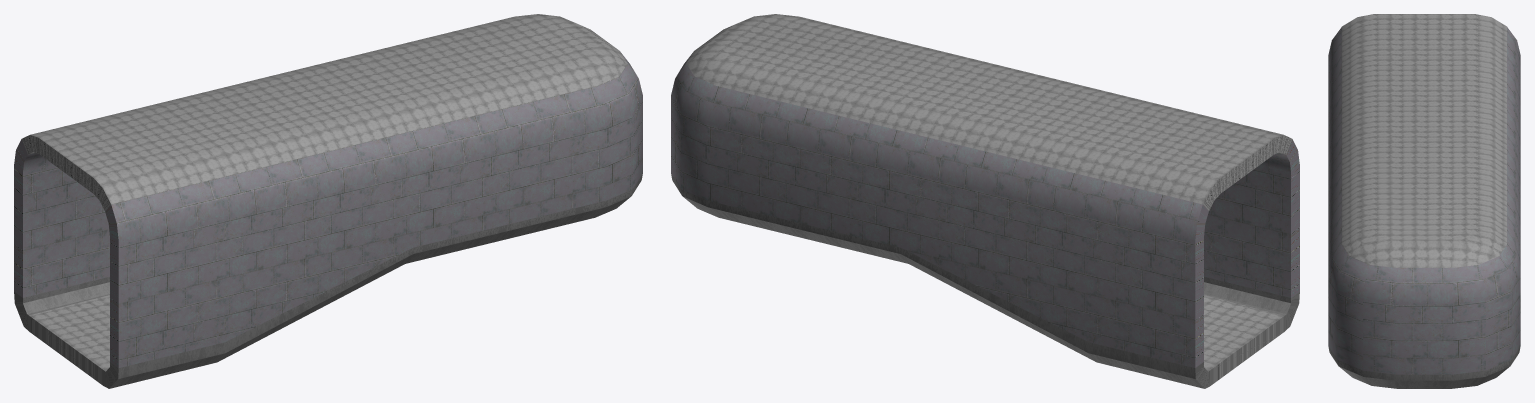
The model's file is SM_cockpit.glb.
3 renders of one model, left to right at view 1: azimuth 30°, elevation 25°; view 2: azimuth 150°, elevation 25°; view 3: azimuth 270°, elevation 25°, orthographic. The views are drawn at different scales.
Visible parts, largest first — view 1: Plane; view 2: Plane; view 3: Plane.
Part boxes in pixels (bbox=[...]): Plane: bbox=[14, 14, 642, 388]; Plane: bbox=[671, 14, 1299, 388]; Plane: bbox=[1328, 14, 1520, 388].
Bounding box in the file's own units: 65.84 × 22.9 × 21.65.
Materials: 3 (3 with a texture image).
